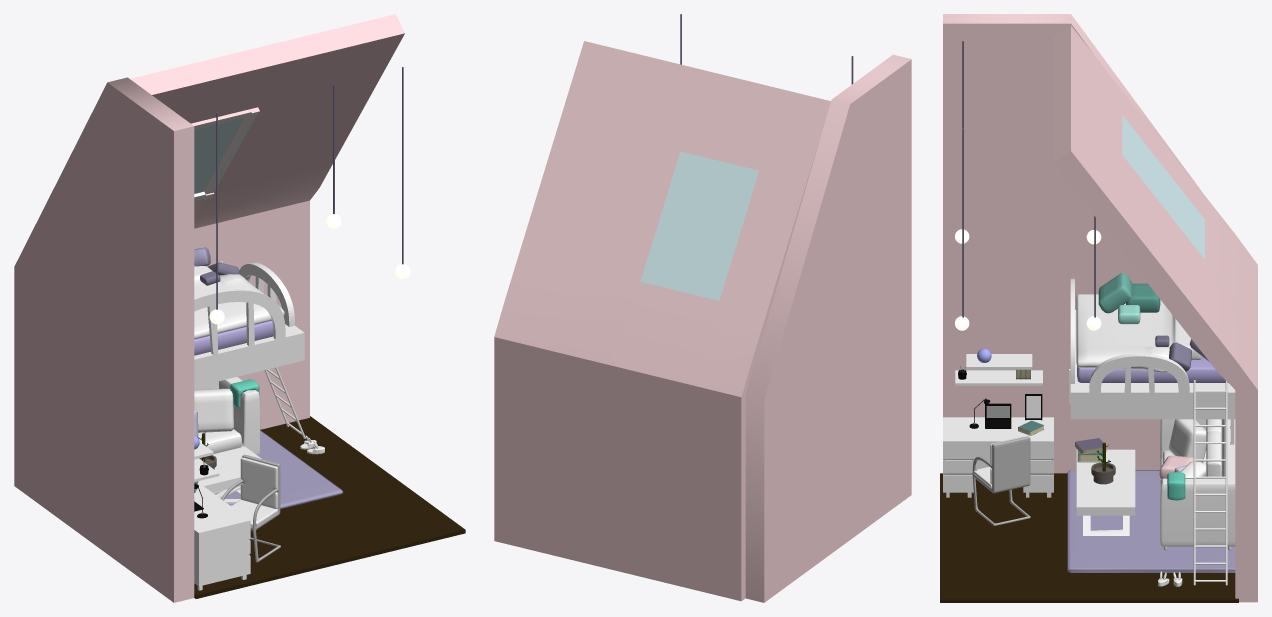
File: tumblr-room-low-poly.fbx
The picture shows the model from 3 angles, left to right: view 1: azimuth 30°, elevation 25°; view 2: azimuth 150°, elevation 25°; view 3: azimuth 270°, elevation 25°; orthographic projection. The views are drawn at different scales.
Parts seen in each view (by area): view 1: pCube84_lambert44_0, pCube83_lambert44_0, pCube1_phong1_0, pCube65_blinn9_0, pCube30_lambert12_0, pCube76_lambert43_0, pCube60_lambert29_0, pCube83_lambert46_0, pCube72_lambert34_0, pCube50_lambert11_0, pCube66_lambert33_0, pCube20_lambert15_0 (+6 smaller); view 2: pCube83_lambert44_0, pCube84_lambert44_0, pCube83_lambert46_0; view 3: pCube84_lambert44_0, pCube83_lambert44_0, pCube1_phong1_0, pCube76_lambert43_0, pCube65_blinn9_0, pCube66_lambert33_0, pCube30_lambert12_0, pCube60_lambert29_0, pCube20_lambert15_0, pCube83_lambert46_0, pCube49_blinn1_0, pCylinder31_blinn10_0 (+11 smaller).
Boxes of the visible parts, bbox=[...] form: pCube84_lambert44_0: bbox=[14, 77, 194, 602]; pCube83_lambert44_0: bbox=[130, 14, 404, 429]; pCube1_phong1_0: bbox=[194, 416, 465, 598]; pCube65_blinn9_0: bbox=[194, 262, 304, 387]; pCube30_lambert12_0: bbox=[194, 482, 250, 590]; pCube76_lambert43_0: bbox=[214, 430, 343, 509]; pCube60_lambert29_0: bbox=[194, 266, 285, 339]; pCube83_lambert46_0: bbox=[194, 117, 244, 193]; pCube72_lambert34_0: bbox=[194, 388, 233, 432]; pCube50_lambert11_0: bbox=[240, 457, 277, 509]; pCube66_lambert33_0: bbox=[219, 376, 260, 456]; pCube20_lambert15_0: bbox=[198, 446, 261, 505]; pCube83_lambert44_0: bbox=[494, 41, 830, 601]; pCube84_lambert44_0: bbox=[745, 54, 911, 602]; pCube83_lambert46_0: bbox=[640, 151, 758, 300]; pCube84_lambert44_0: bbox=[943, 14, 1201, 473]; pCube83_lambert44_0: bbox=[1052, 25, 1257, 602]; pCube1_phong1_0: bbox=[940, 473, 1238, 602]; pCube76_lambert43_0: bbox=[1067, 470, 1235, 572]; pCube65_blinn9_0: bbox=[1070, 278, 1235, 419]; pCube66_lambert33_0: bbox=[1160, 419, 1235, 550]; pCube30_lambert12_0: bbox=[943, 417, 1053, 497]; pCube60_lambert29_0: bbox=[1076, 294, 1201, 372]; pCube20_lambert15_0: bbox=[1076, 449, 1135, 535]; pCube83_lambert46_0: bbox=[1122, 115, 1204, 259]; pCube49_blinn1_0: bbox=[972, 436, 1030, 525]; pCylinder31_blinn10_0: bbox=[1193, 380, 1227, 585].
Size of the model in its own units: 2582 by 4014 by 2550.
